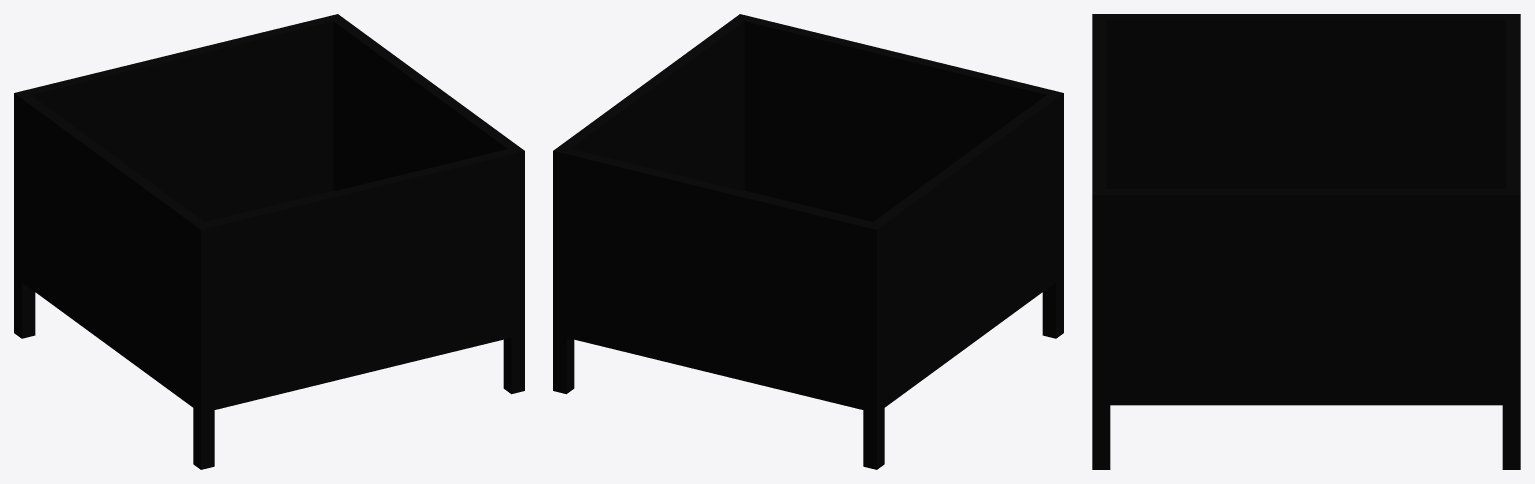
The model's file is load_withTag.dae.
3 views of the same model, side by side, from view 1: azimuth 30°, elevation 25°; view 2: azimuth 150°, elevation 25°; view 3: azimuth 270°, elevation 25° (orthographic). The views are drawn at different scales.
Parts seen in each view (by area): view 1: Cube; view 2: Cube; view 3: Cube.
Part boxes in pixels (left/top/right/bottom): Cube: left=14, top=14, right=524, bottom=469; Cube: left=553, top=14, right=1063, bottom=469; Cube: left=1092, top=14, right=1520, bottom=469.
Bounding box in the file's own units: 1.2 × 1.2 × 0.85.
1 material, 1 textured.
